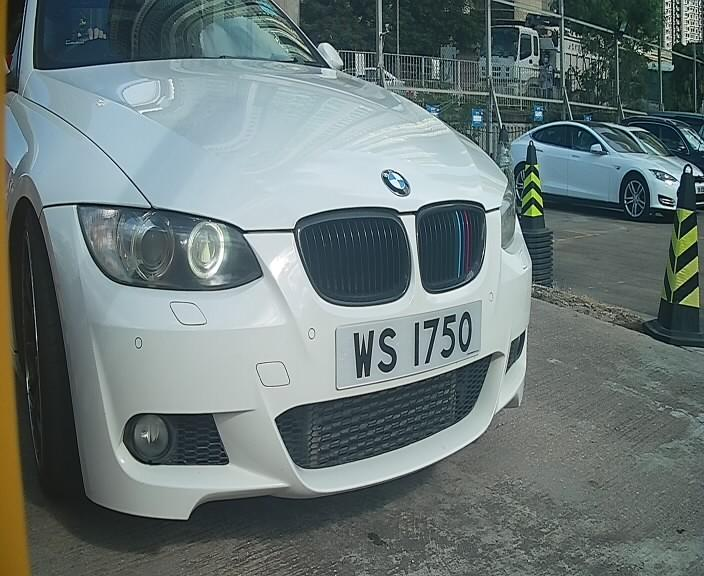Car: (16, 8, 557, 512)
License Plate: (340, 289, 481, 394)
